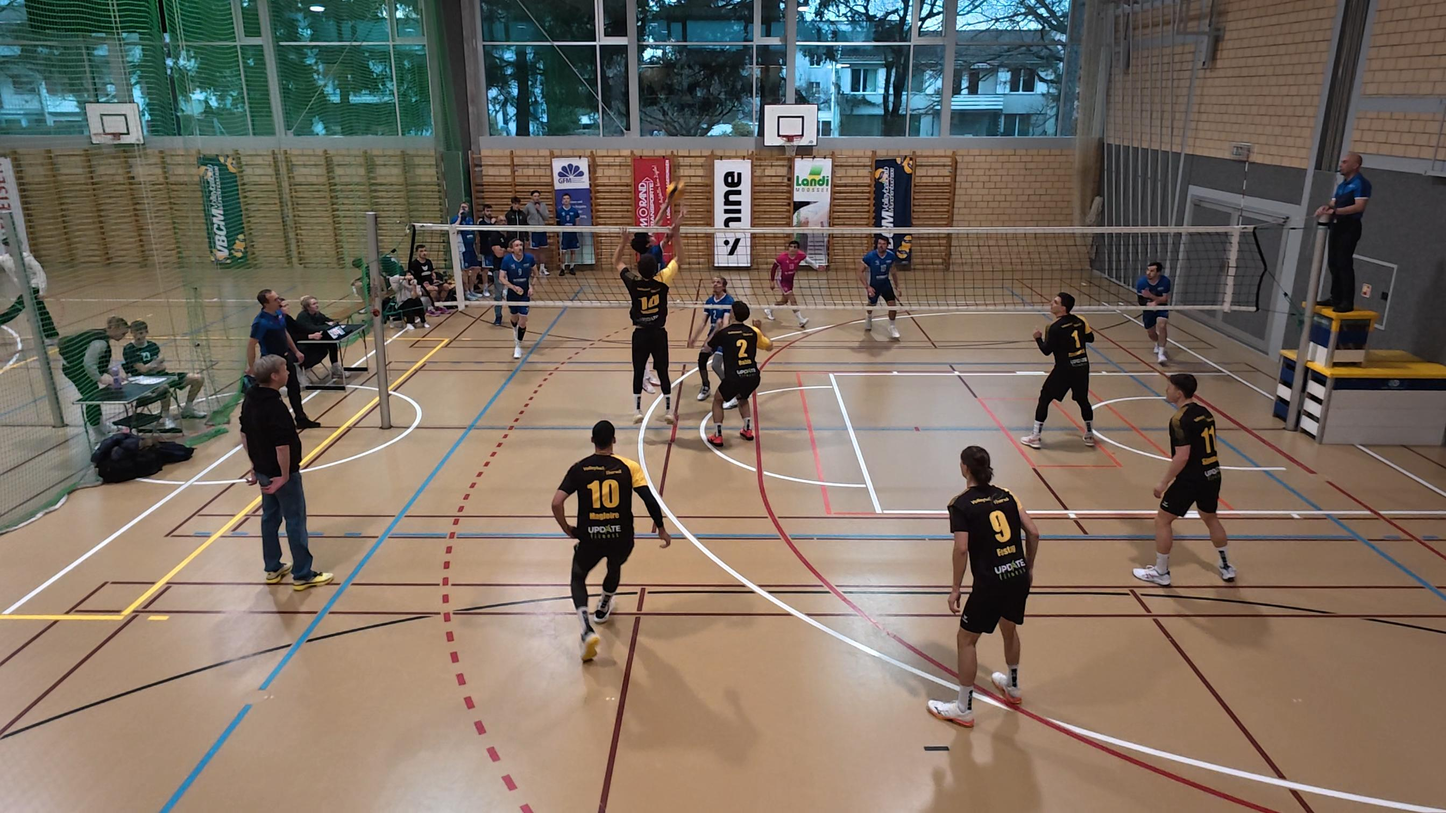alzata: (623, 178, 686, 269)
muro: (616, 215, 683, 440)
